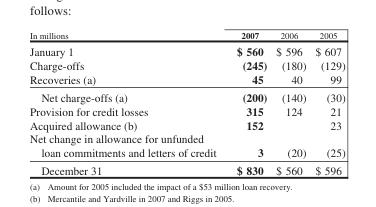table: (29, 29, 344, 176)
table column: (29, 29, 225, 176), (225, 29, 270, 176), (270, 29, 309, 176), (309, 29, 344, 176)
table column header: (29, 29, 344, 42)
table row: (29, 131, 344, 161), (29, 42, 344, 58), (29, 87, 344, 103), (29, 72, 344, 87), (29, 161, 344, 176), (29, 58, 344, 72), (29, 103, 344, 117), (29, 117, 344, 131), (29, 29, 344, 42)
